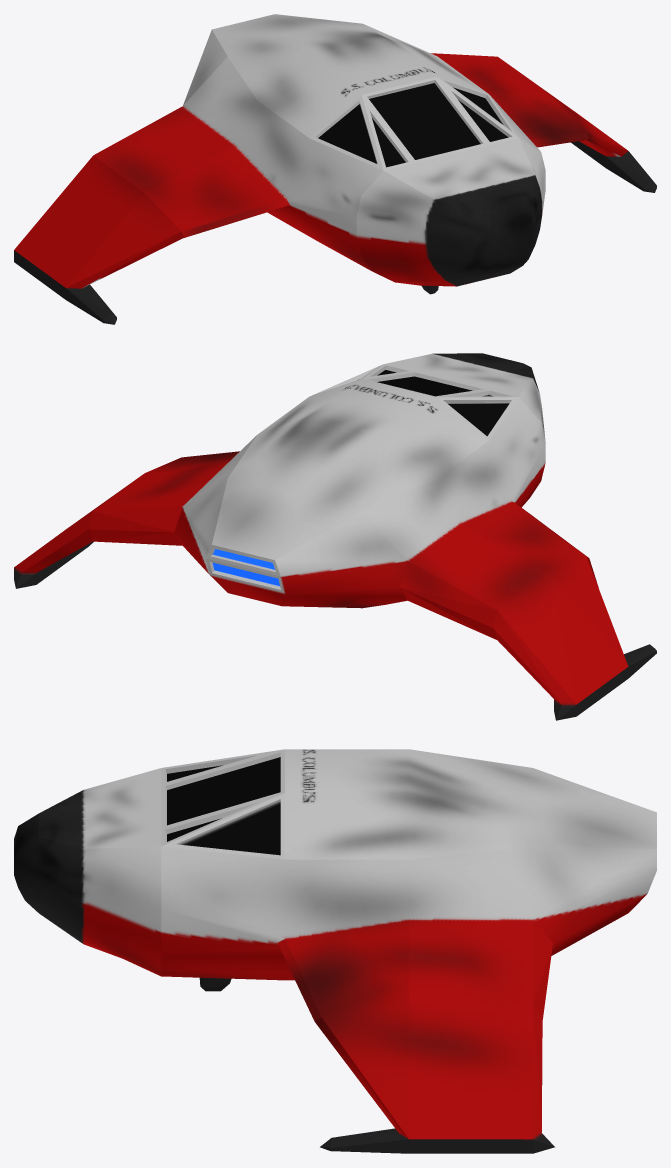
The model's file is playerShip.FBX.
The picture shows the model from 3 angles, top to bottom: view 1: azimuth 30°, elevation 25°; view 2: azimuth 150°, elevation 25°; view 3: azimuth 270°, elevation 25°; orthographic projection. The views are drawn at different scales.
Parts seen in each view (by area): view 1: body_main; view 2: body_main; view 3: body_main.
Boxes of the visible parts, box(x1,y1,x2,y2) form: body_main: box(14, 14, 656, 324); body_main: box(14, 353, 656, 720); body_main: box(14, 749, 656, 1153).
Size of the model in its own units: 194 by 60.45 by 161.
